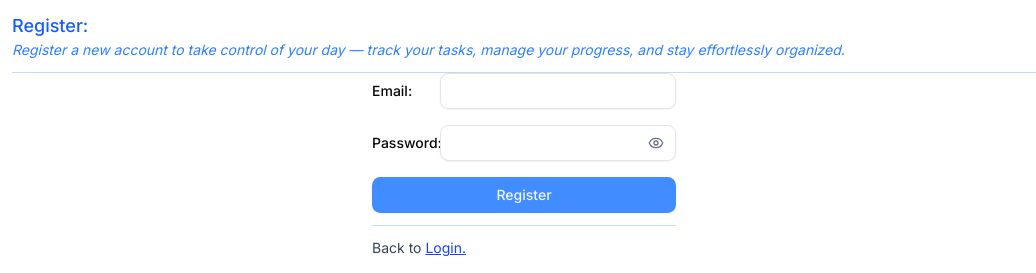
Register Component › toggles password visibility
Click eye button to show password
Click the 1st button at (656, 143), box [648,135,664,151]
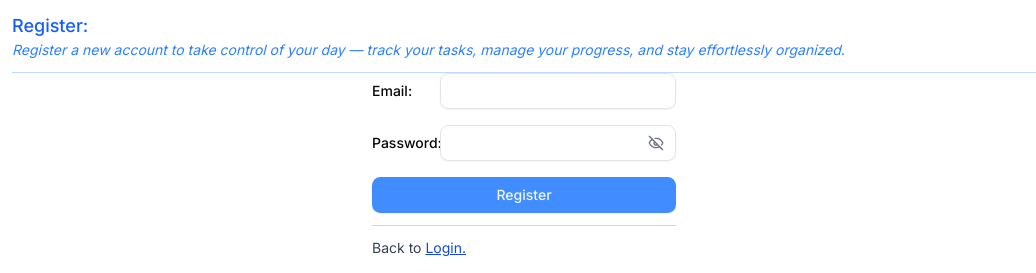
Check: the field labelled "Password:" shows its text, box [440,125,676,161]
Click again to hide password
Click the 1st button at (656, 143), box [648,135,664,151]
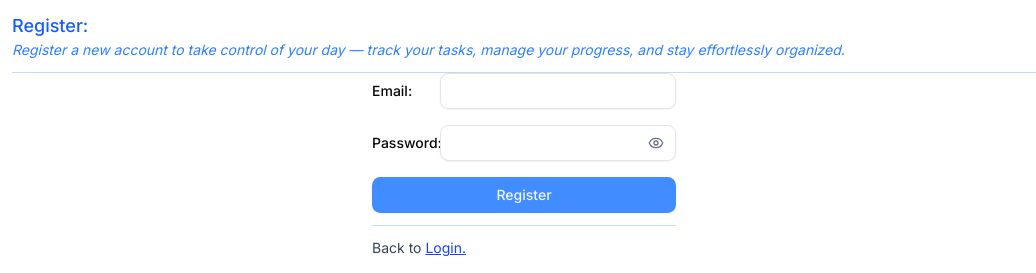
Check: the password field labelled "Password:" hides its text, box [440,125,676,161]
